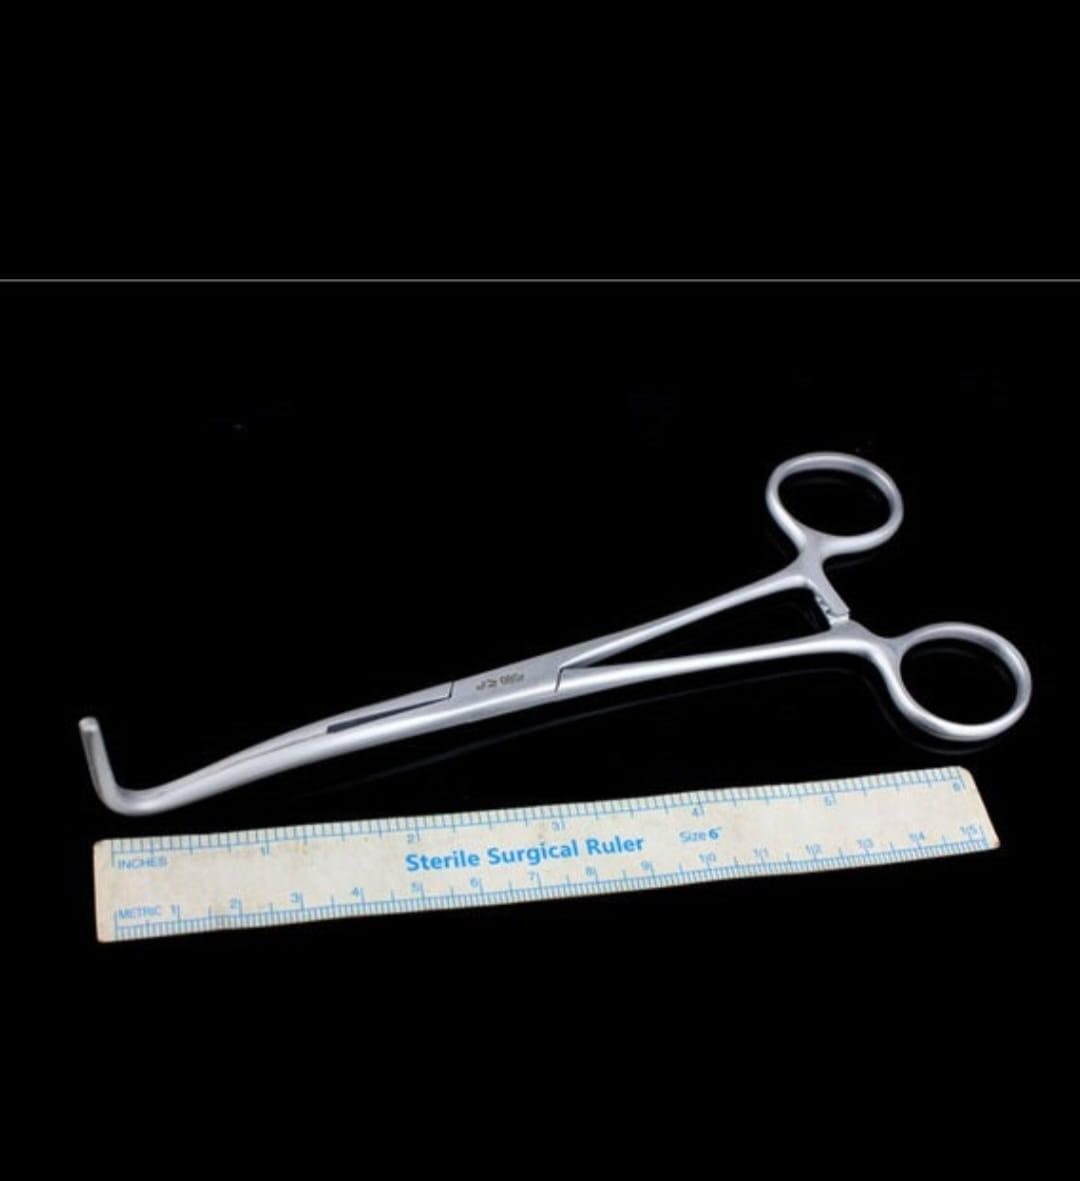Rectangle Cholecystectomy Forceps: (68, 427, 1048, 822)
